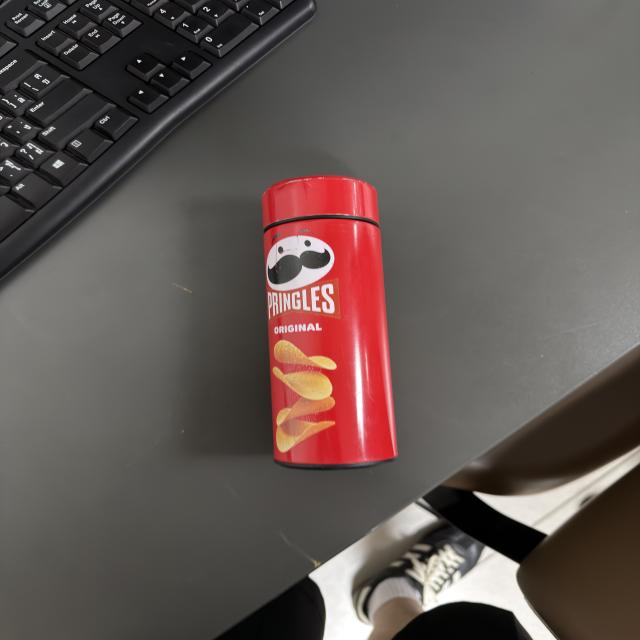water bottle: (256, 172, 403, 474)
